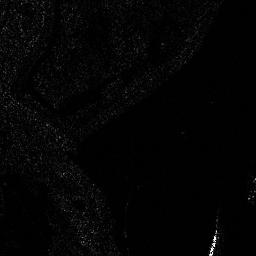ship: (205, 227, 220, 256)
